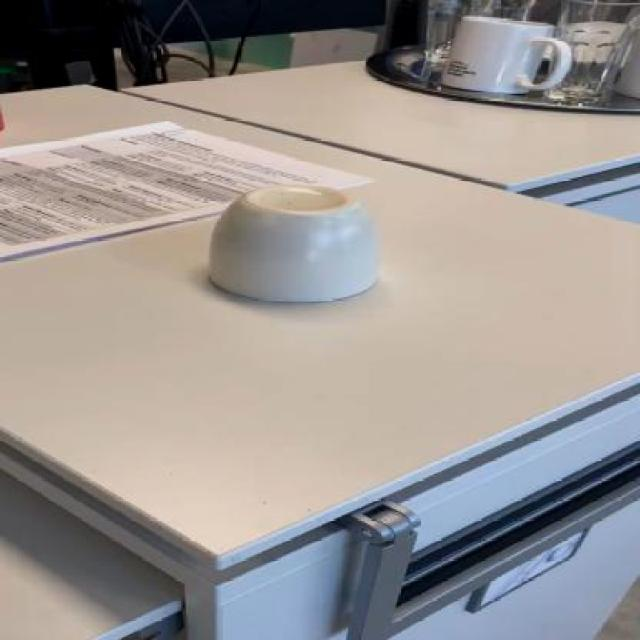cup: (210, 184, 379, 302)
